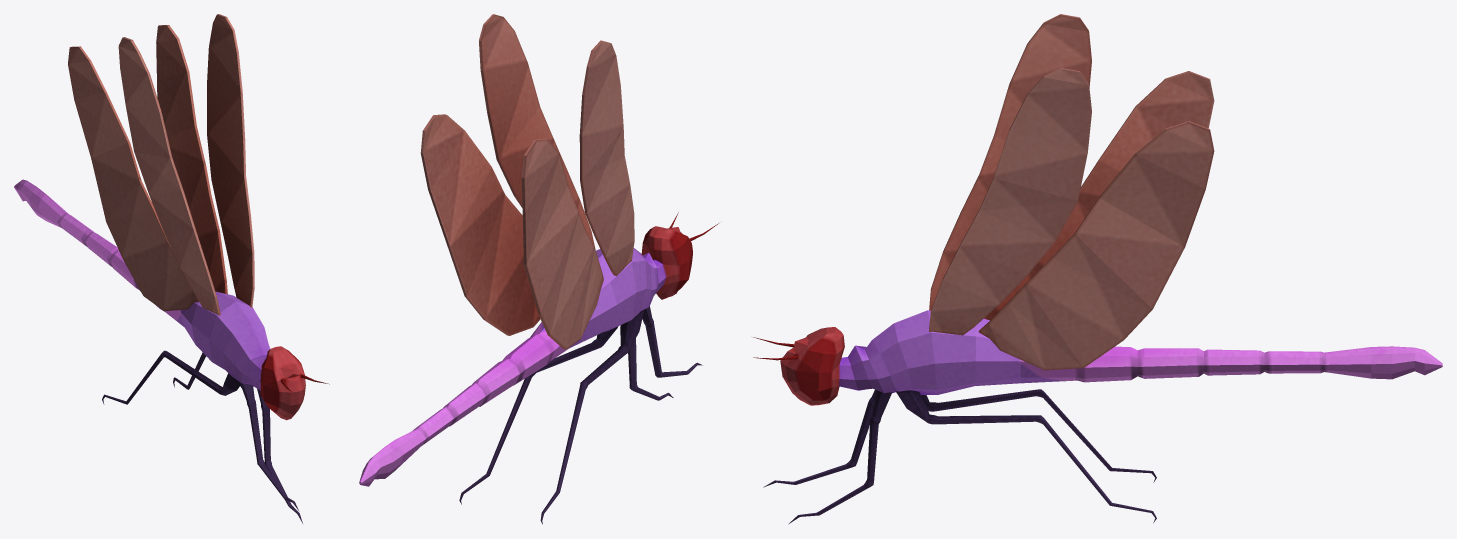
File: Dragonfly_01.FBX
3 views of the same model, side by side, from view 1: azimuth 30°, elevation 25°; view 2: azimuth 150°, elevation 25°; view 3: azimuth 270°, elevation 25° (orthographic). The views are drawn at different scales.
Parts seen in each view (by area): view 1: Dragonfly_Right_Wing_01, Dragonfly_Left_Wing_01, Dragonfly_01, Dragonfly_Right_Back_Leg_01, Dragonfly_Right_Fornt_Leg_01, Dragonfly_Left_Fornt_Leg_01; view 2: Dragonfly_Left_Wing_01, Dragonfly_Right_Wing_01, Dragonfly_01, Dragonfly_Right_Back_Leg_01, Dragonfly_Left_Back_Leg_01, Dragonfly_Right_Fornt_Leg_01, Dragonfly_Left_Fornt_Leg_01; view 3: Dragonfly_Left_Wing_01, Dragonfly_01, Dragonfly_Right_Wing_01, Dragonfly_Left_Back_Leg_01, Dragonfly_Right_Back_Leg_01, Dragonfly_Left_Fornt_Leg_01, Dragonfly_Right_Fornt_Leg_01.
Boxes of the visible parts, x1,y1,x2,y2 form: Dragonfly_Right_Wing_01: (68, 37, 220, 315); Dragonfly_Left_Wing_01: (156, 14, 254, 307); Dragonfly_01: (14, 179, 329, 420); Dragonfly_Right_Back_Leg_01: (102, 350, 240, 404); Dragonfly_Right_Fornt_Leg_01: (239, 382, 299, 511); Dragonfly_Left_Fornt_Leg_01: (257, 389, 302, 523); Dragonfly_Left_Wing_01: (420, 14, 595, 335); Dragonfly_Right_Wing_01: (521, 40, 634, 349); Dragonfly_01: (359, 212, 718, 486); Dragonfly_Right_Back_Leg_01: (540, 310, 644, 524); Dragonfly_Left_Back_Leg_01: (459, 326, 618, 504); Dragonfly_Right_Fornt_Leg_01: (642, 306, 702, 377); Dragonfly_Left_Fornt_Leg_01: (628, 338, 673, 400); Dragonfly_Left_Wing_01: (929, 67, 1214, 370); Dragonfly_01: (753, 310, 1442, 405); Dragonfly_Right_Wing_01: (929, 14, 1214, 320); Dragonfly_Left_Back_Leg_01: (896, 390, 1156, 522); Dragonfly_Right_Back_Leg_01: (921, 389, 1156, 482); Dragonfly_Left_Fornt_Leg_01: (788, 390, 892, 524); Dragonfly_Right_Fornt_Leg_01: (763, 389, 876, 487).
Bounding box in the file's own units: 1.38 × 5.63 × 7.37.
